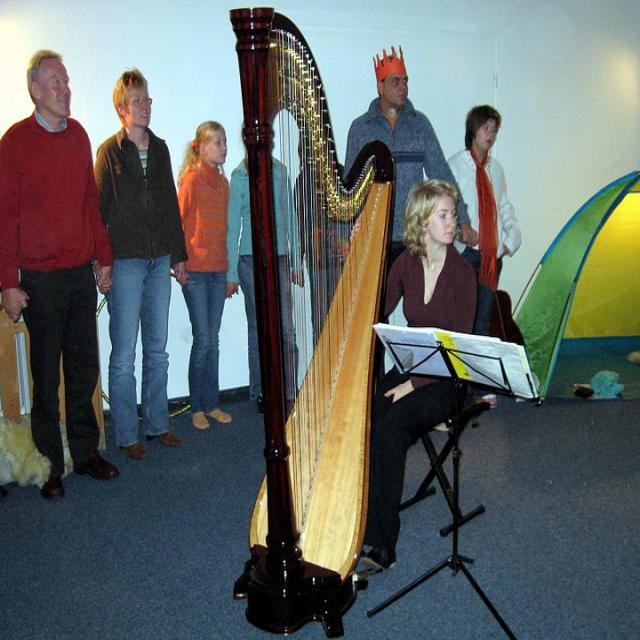harp: (226, 3, 404, 640)
